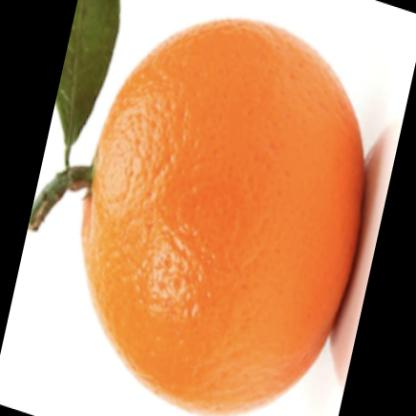fresh: (84, 18, 367, 416)
